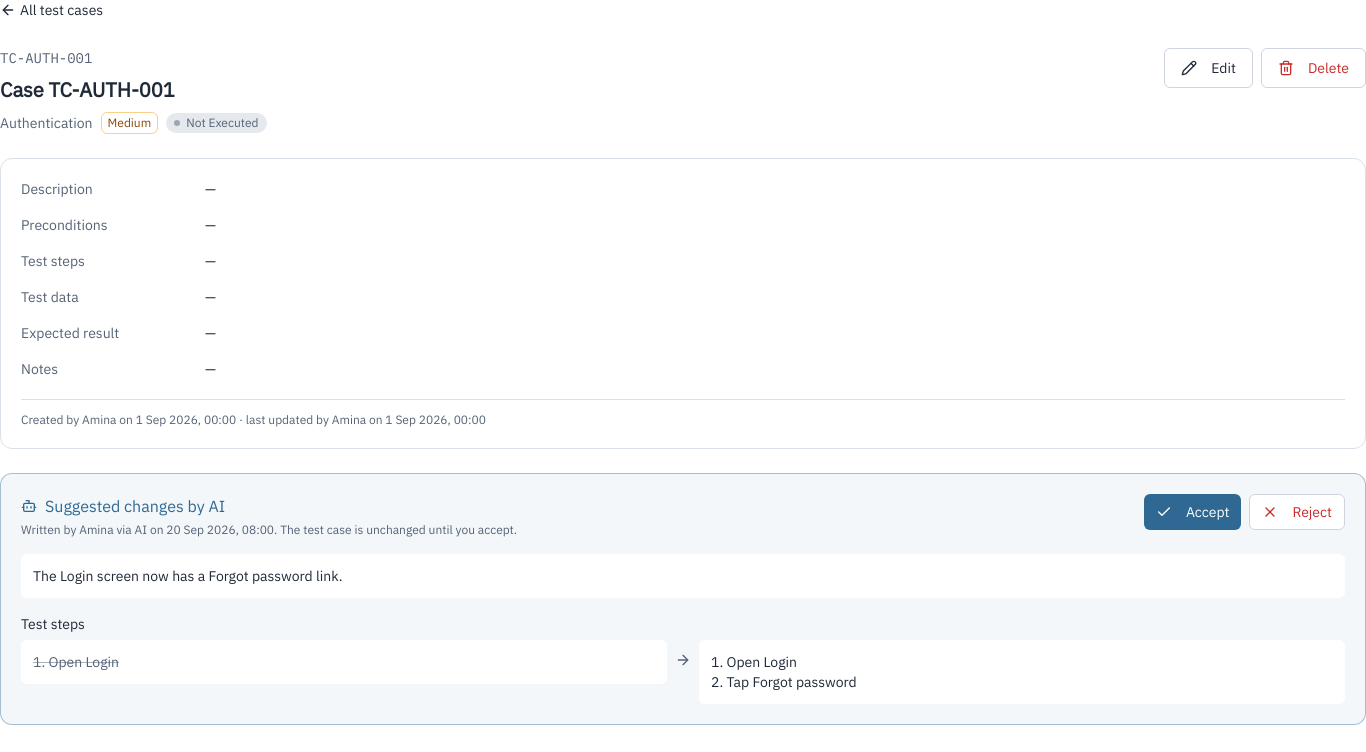
Scenario: CaseDetailPage — AI drafts and suggestions › keeps an open Edit dialog’s typed text when the case refetches underneath it
Check: the heading "Suggested changes by AI" is shown, box [21,496,225,516]
Click the button "Edit" at (1209, 68), box [1164,48,1253,88]
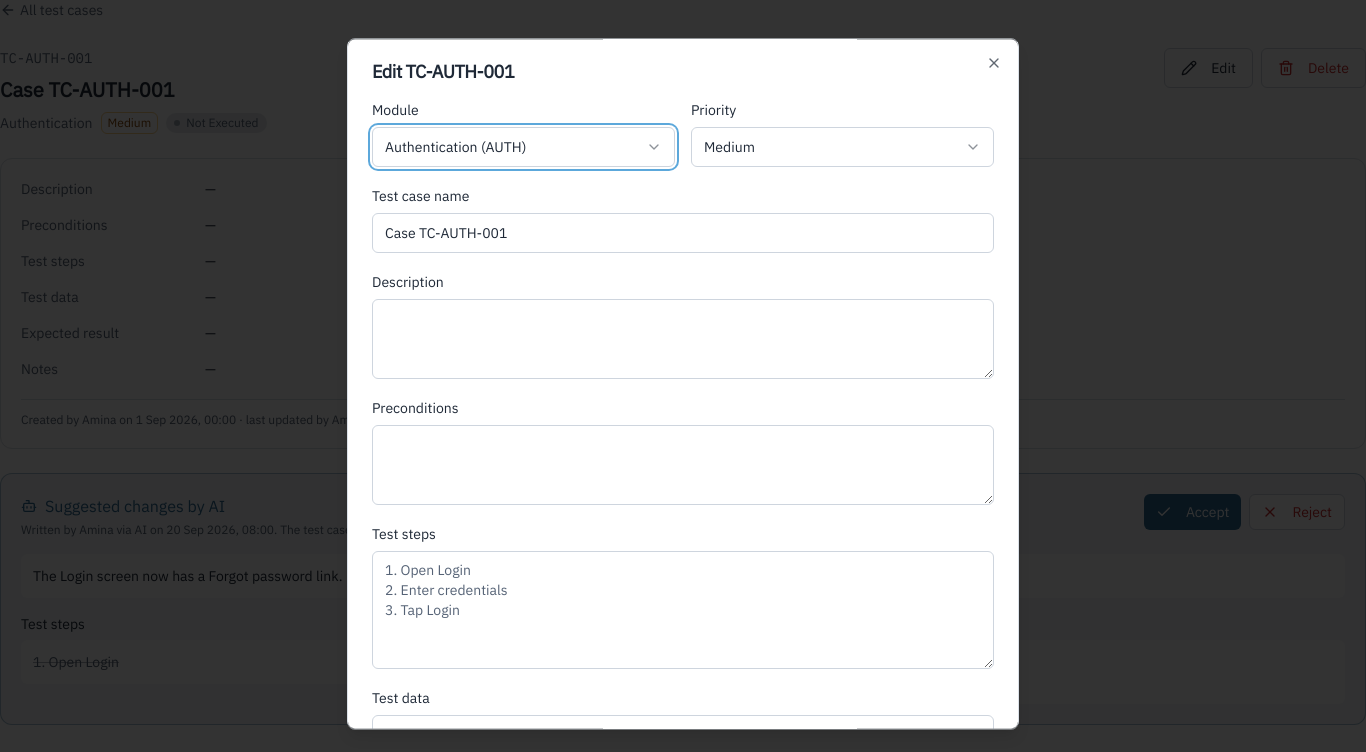
Replace the text in the field labelled "Test case name" with "My unsaved title" at (683, 233), box [372,213,994,253]
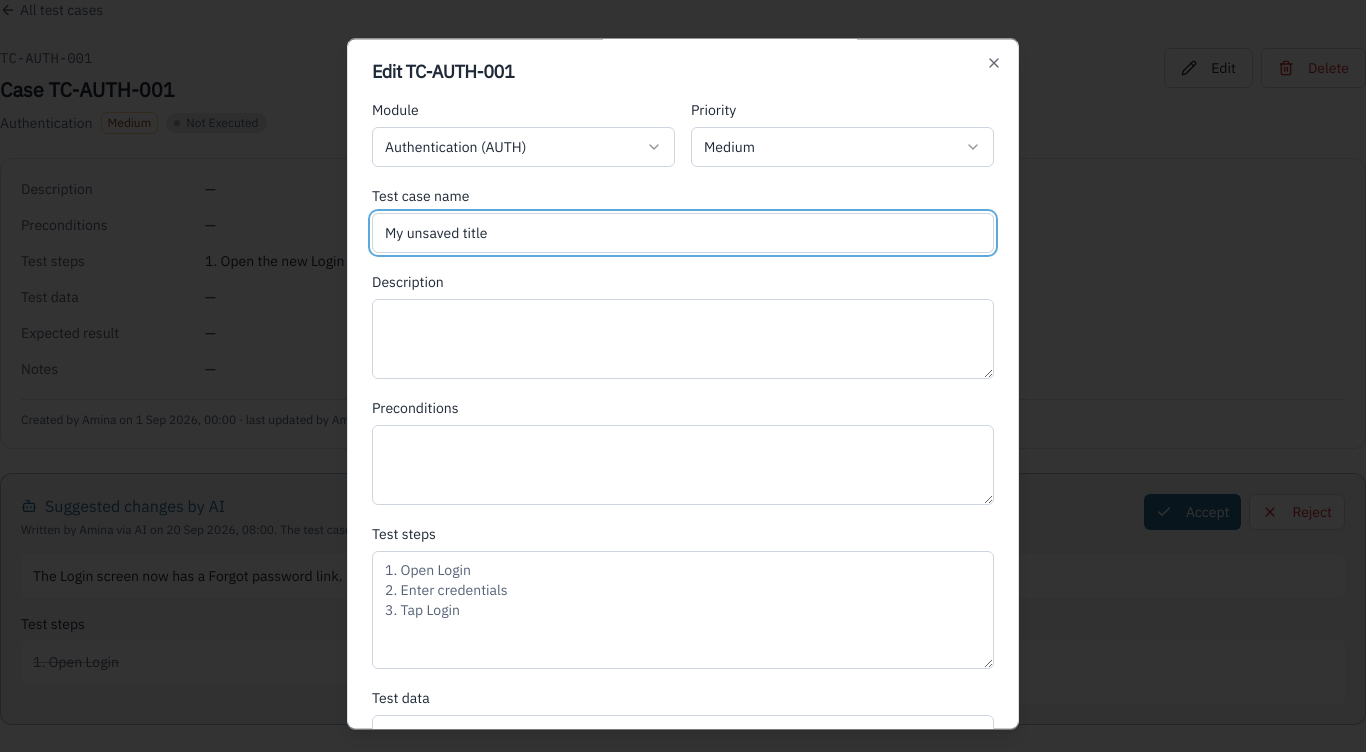
Check: the text "1. Open the new Login screen" is shown, box [205,252,390,270]
